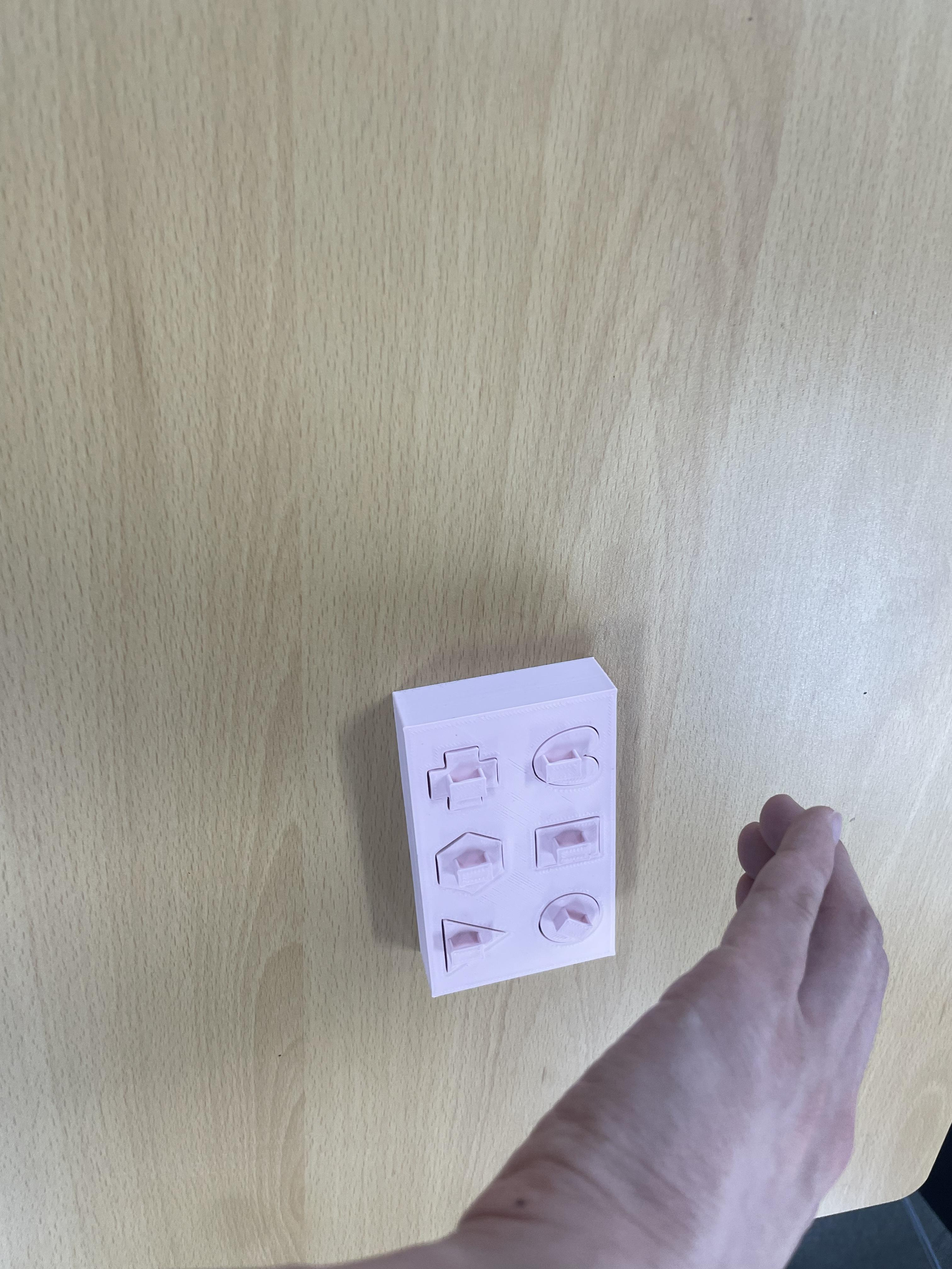solved: (387, 658, 632, 1001)
